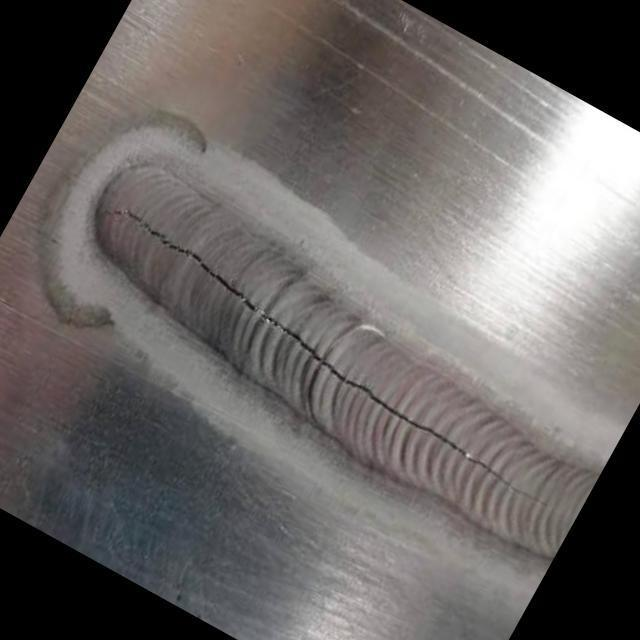defect: (95, 204, 551, 507)
